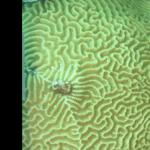alive: (23, 1, 149, 148)
